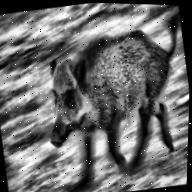boar: (31, 11, 192, 192)
